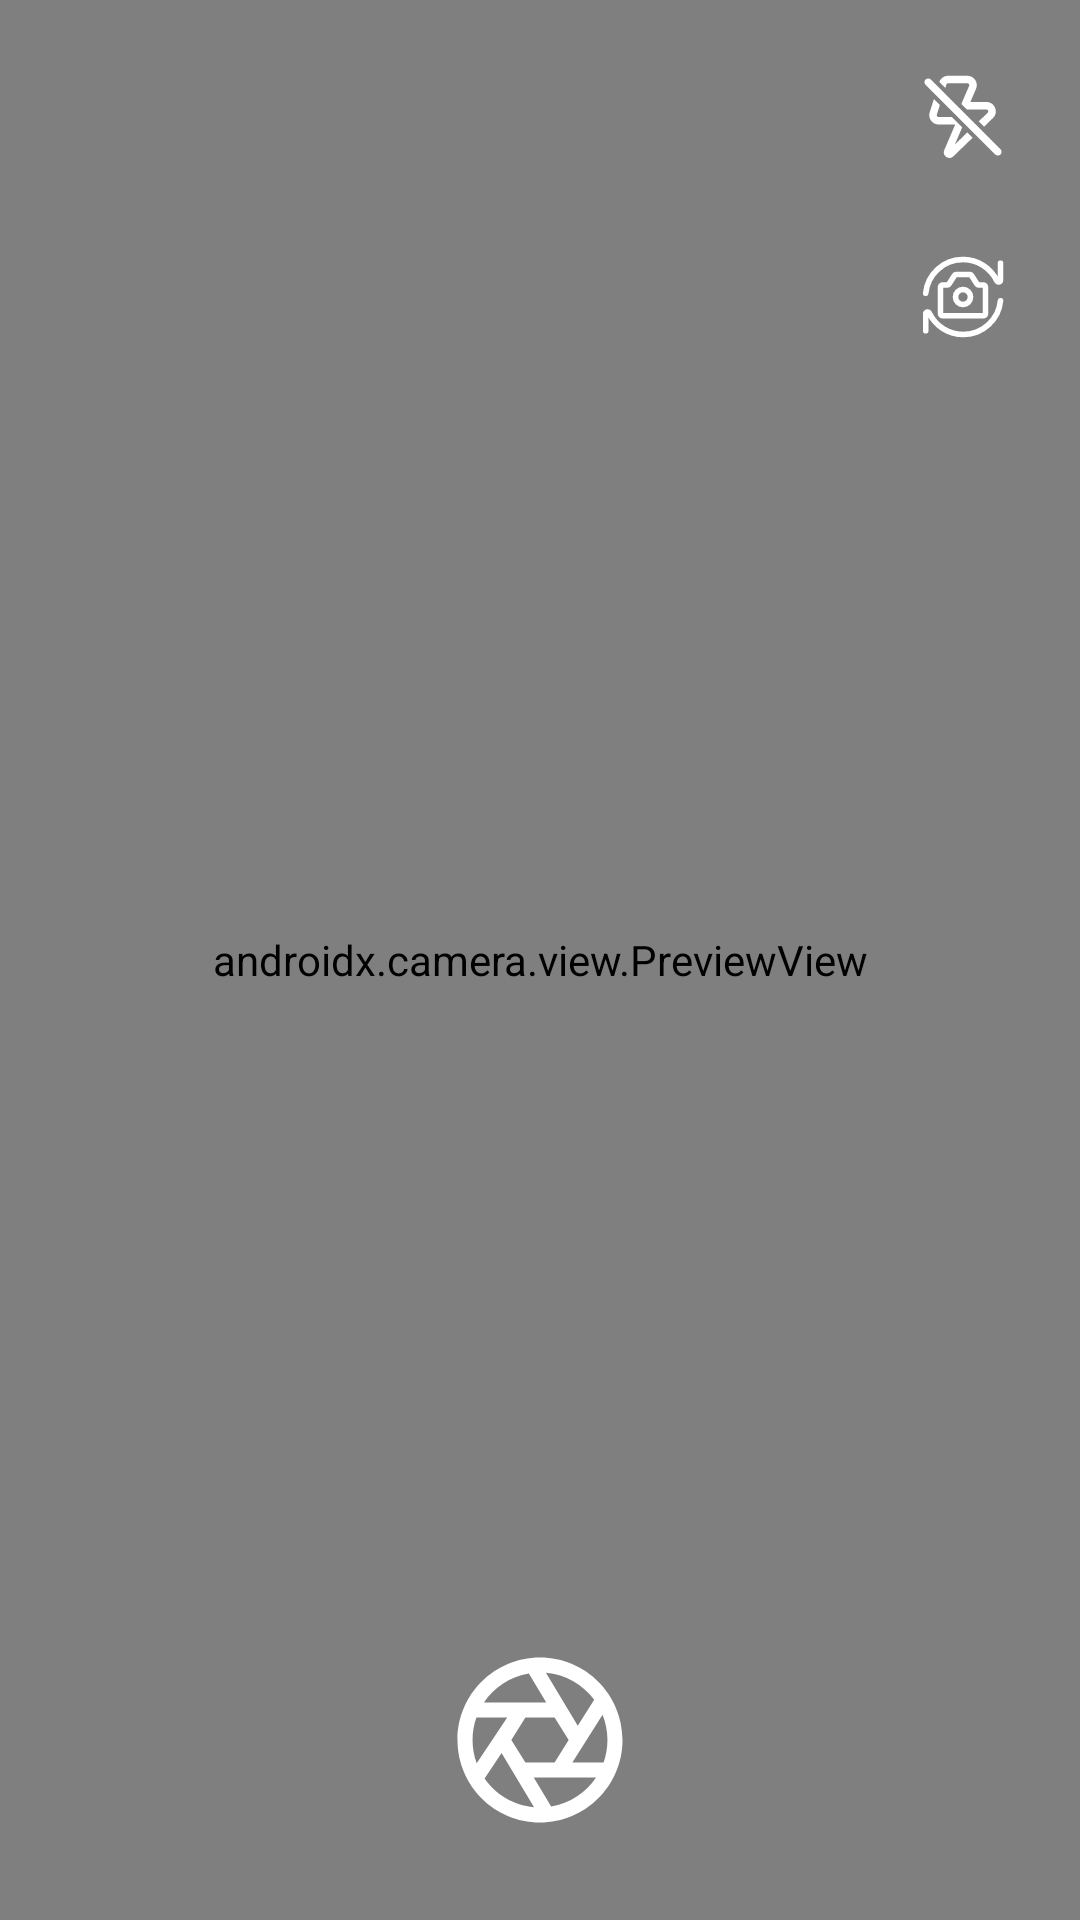

Where to tap for icons on this 1080 x 1920 app screen, as [x,y]:
rotate camera: [963,297]
unflash: [963,116]
